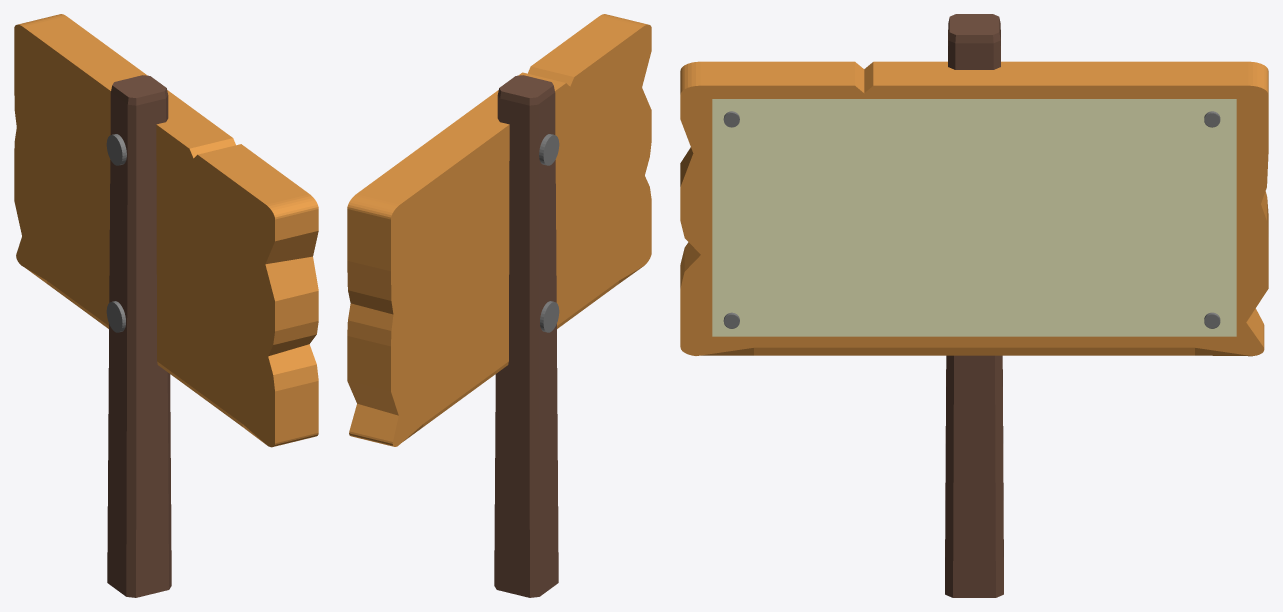
Rendered from SIGN_fbx.fbx.
3 renders of one model, left to right at view 1: azimuth 30°, elevation 25°; view 2: azimuth 150°, elevation 25°; view 3: azimuth 270°, elevation 25°, orthographic. The views are drawn at different scales.
Parts seen in each view (by area): view 1: Cube.001, Cube, Cylinder, Cylinder.005; view 2: Cube.001, Cube, Cylinder, Cylinder.005; view 3: Plane, Cube.001, Cube.
Boxes of the visible parts, x1,y1,x2,y2 form: Cube.001: [14, 14, 318, 447]; Cube: [107, 75, 171, 597]; Cylinder: [106, 134, 126, 165]; Cylinder.005: [106, 301, 125, 332]; Cube.001: [347, 14, 651, 446]; Cube: [494, 75, 558, 597]; Cylinder: [539, 134, 559, 165]; Cylinder.005: [540, 301, 559, 332]; Plane: [712, 99, 1236, 336]; Cube.001: [680, 61, 1268, 356]; Cube: [945, 14, 1003, 597].
Bounding box in the file's own units: 400 × 2354 × 2236.
